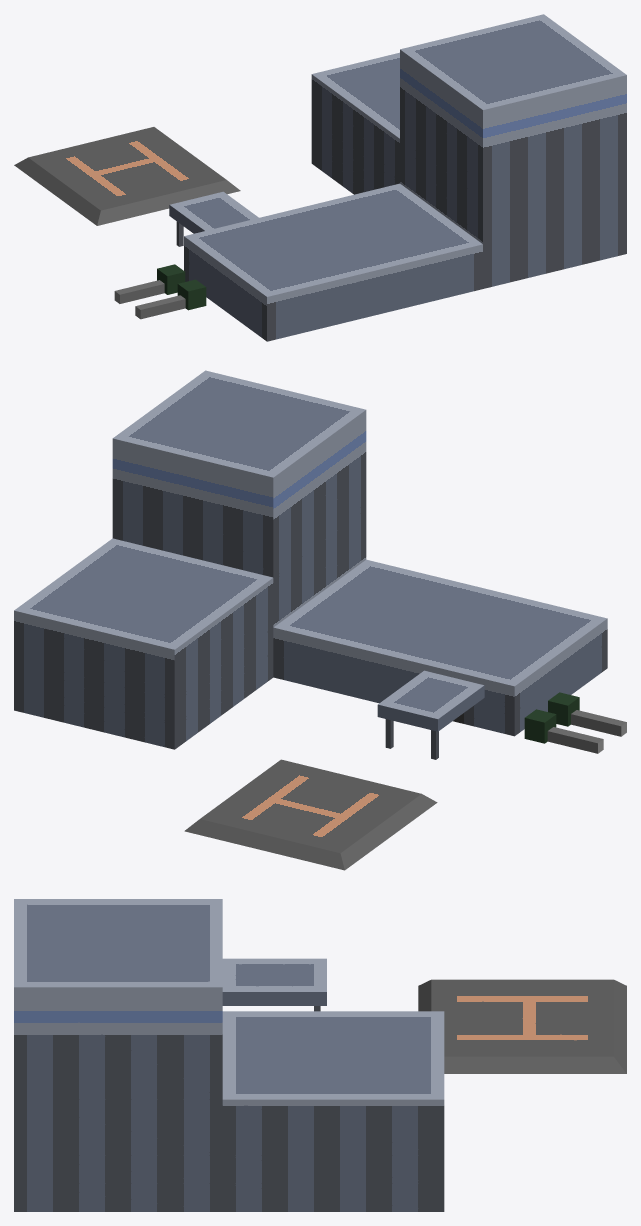
Rendered from building_tritower.gltf.
3 views of the same model, one above another, from view 1: azimuth 30°, elevation 25°; view 2: azimuth 150°, elevation 25°; view 3: azimuth 270°, elevation 25° (orthographic). The views are drawn at different scales.
Visible parts, largest first — view 1: main, cuboid, tube (×2), cooler (×2); view 2: main, cuboid, tube (×2), cooler (×2); view 3: main, cuboid.
Part boxes in pixels (left/top/right/bottom): main: left=169, top=14, right=626, bottom=341; cuboid: left=14, top=127, right=240, bottom=225; tube (×2): left=114, top=280, right=185, bottom=319; cooler (×2): left=157, top=264, right=206, bottom=310; main: left=14, top=370, right=607, bottom=759; cuboid: left=184, top=759, right=437, bottom=870; tube (×2): left=547, top=710, right=626, bottom=753; cooler (×2): left=524, top=692, right=579, bottom=743; main: left=14, top=899, right=444, bottom=1211; cuboid: left=418, top=979, right=626, bottom=1073.
Size of the model in its own units: 3 by 1.19 by 2.94.
Materials: 1 (1 with a texture image).
